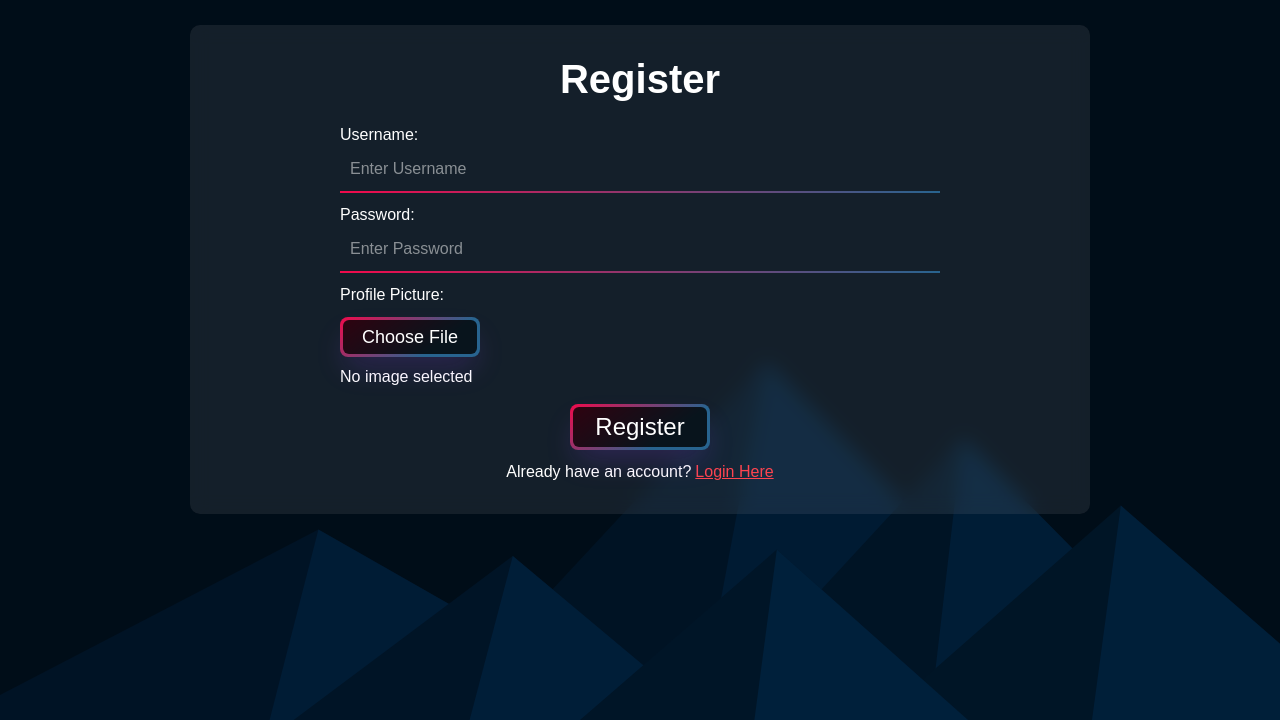
Test case: Registration Flow › displays an error message for registration failure
Type "Guest" into the field with id "username" at (640,170), box x1=340 y1=147 x2=940 y2=193
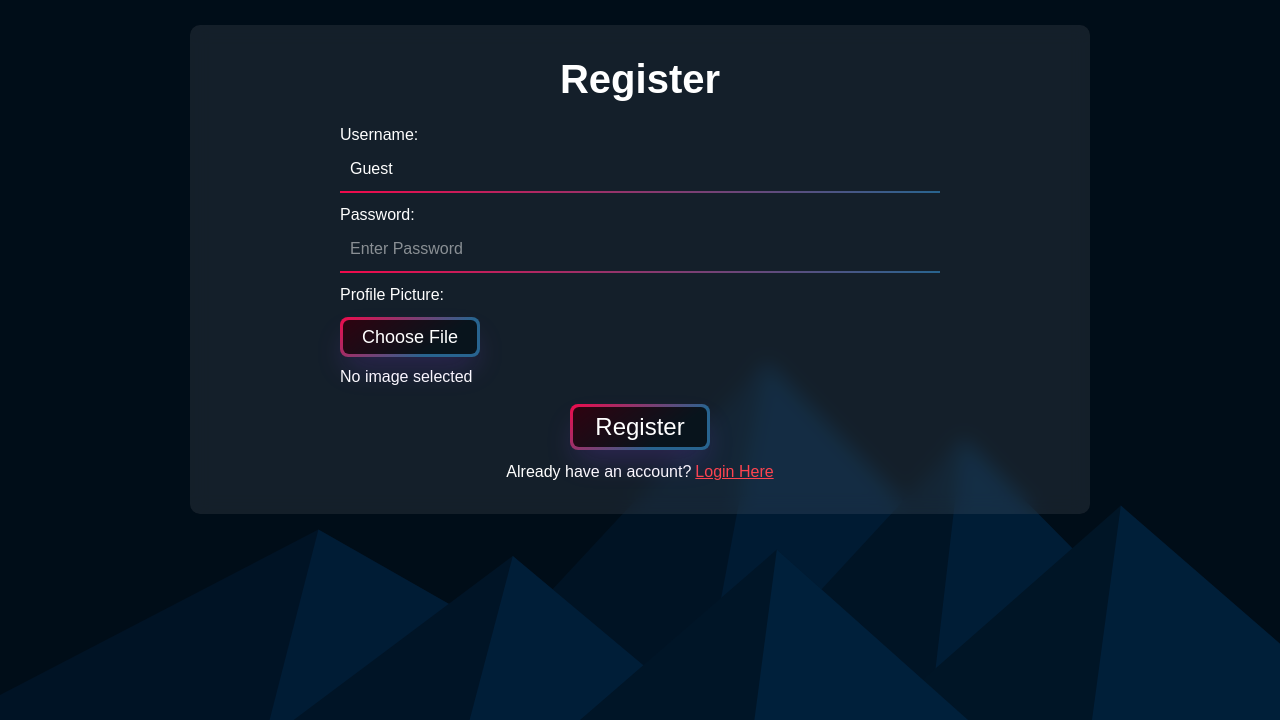
Type "password123" into the password field labelled "Password:" at (640,250), box x1=340 y1=227 x2=940 y2=273
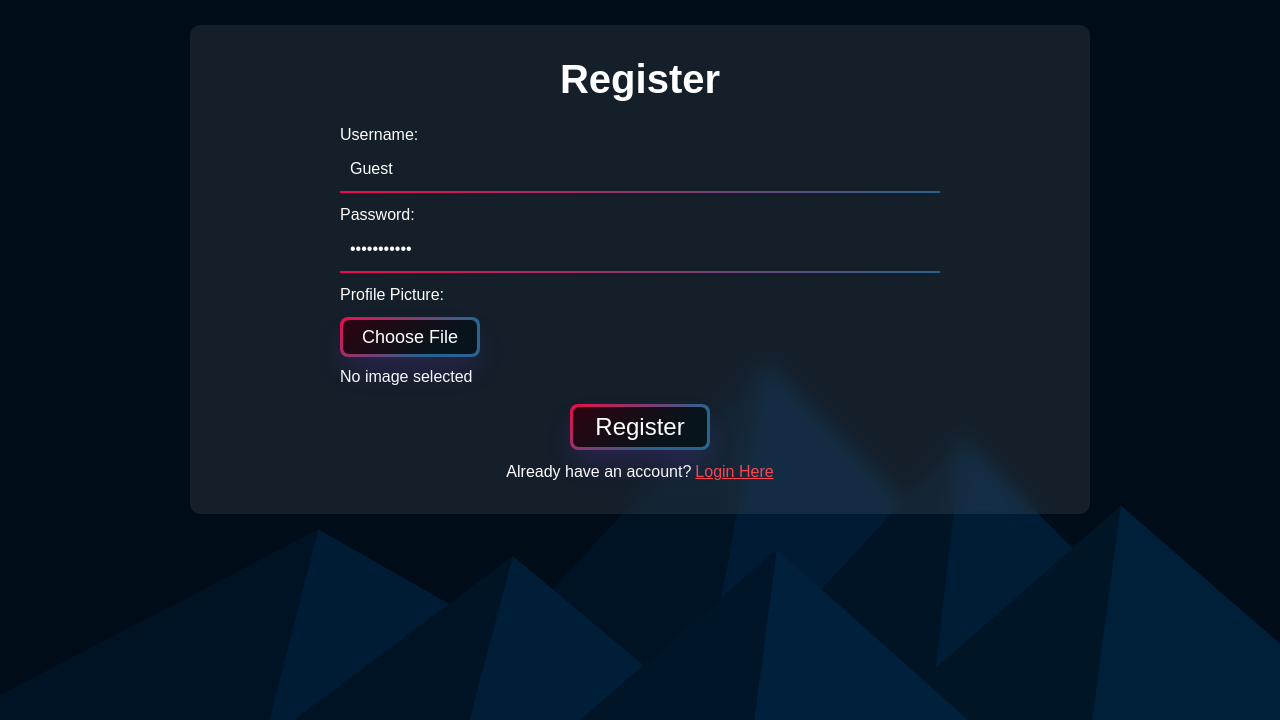
Submit the form with class "register-form", box x1=340 y1=25 x2=940 y2=484
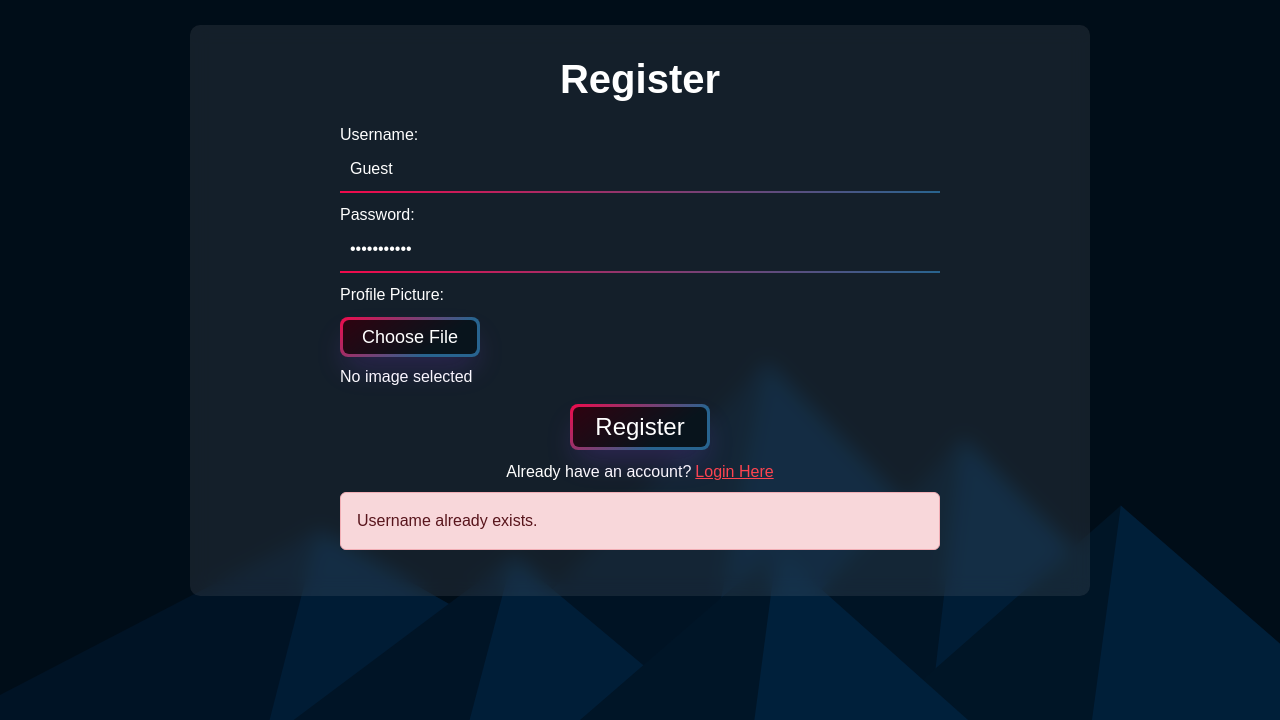
Expected: the text with class "alert-danger" reads "Username already exists.", x1=357 y1=512 x2=538 y2=529
